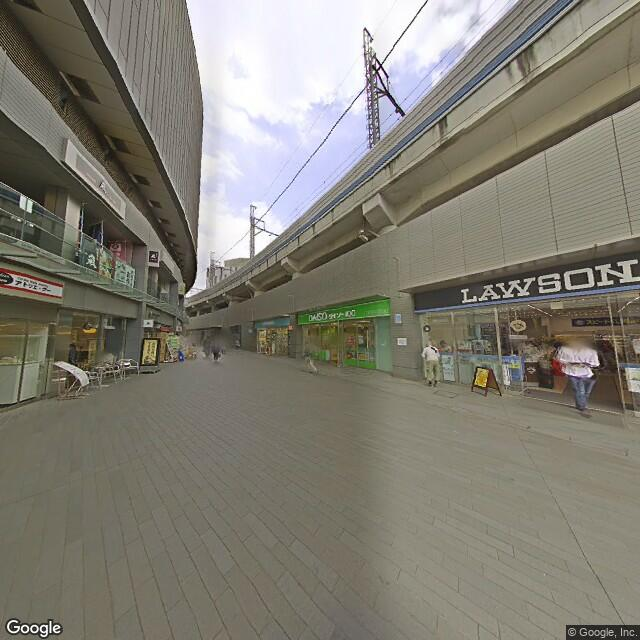lawson: (451, 251, 639, 308)
